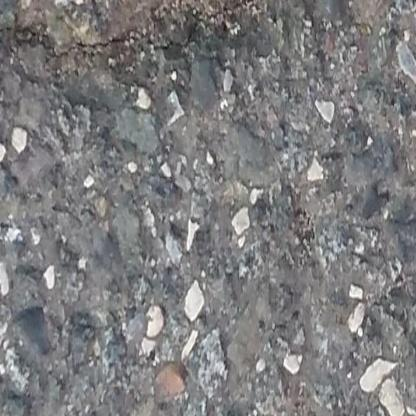Cracks: (0, 0, 343, 82)
